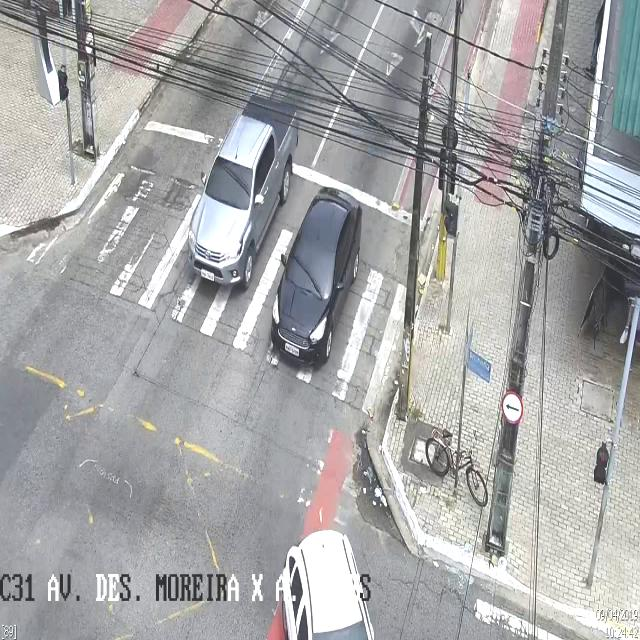Car: (186, 93, 296, 287), (270, 186, 362, 369), (281, 528, 373, 639)
